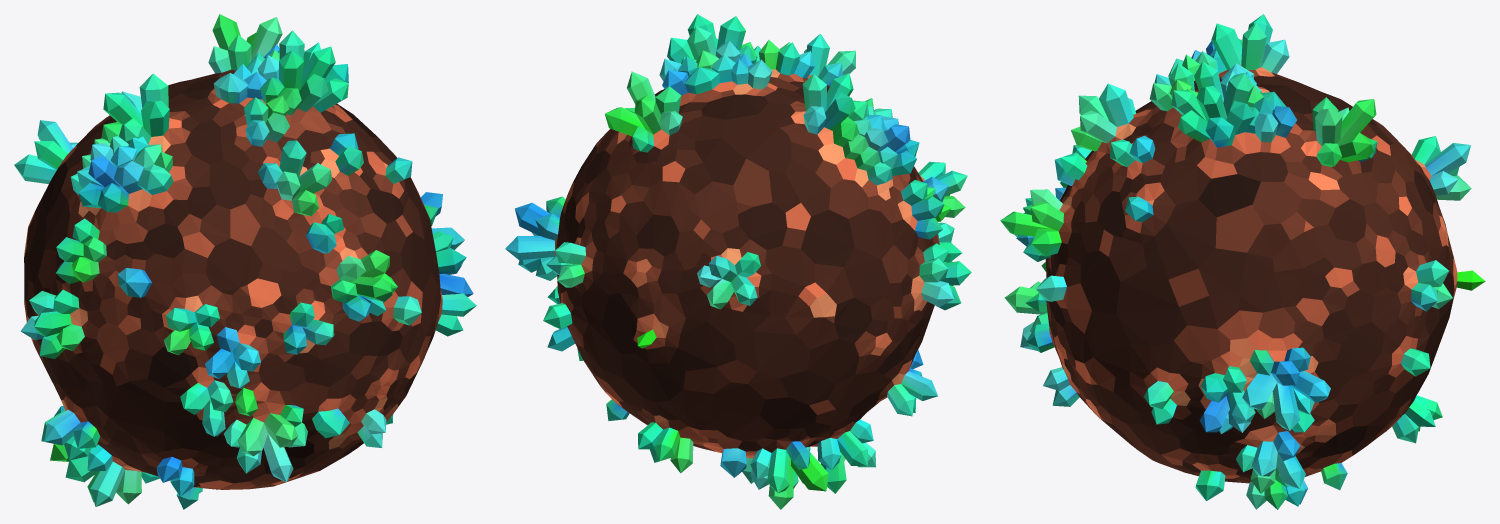
The model's file is Crystal_planet_28.fbx.
3 renders of one model, left to right at view 1: azimuth 30°, elevation 25°; view 2: azimuth 150°, elevation 25°; view 3: azimuth 270°, elevation 25°, orthographic. The views are drawn at different scales.
Visible parts, largest first — view 1: file6; view 2: file6; view 3: file6.
Boxes of the visible parts, x1,y1,x2,y2 form: file6: (14,14,476,509); file6: (505,14,971,509); file6: (1000,14,1485,509).
Bounding box in the file's own units: 2.52 × 2.38 × 2.38.
